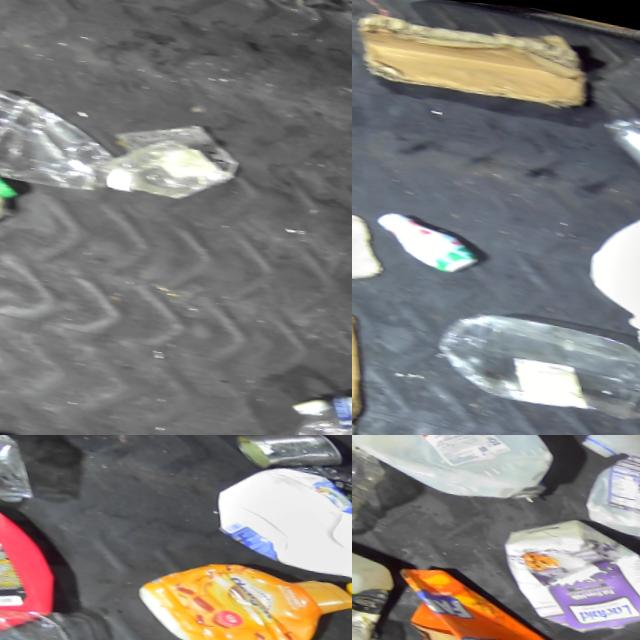can: (228, 435, 349, 476)
milk_jug: (202, 442, 352, 580), (352, 435, 547, 504), (575, 190, 640, 360), (575, 436, 640, 543)
non_white_jug: (129, 536, 351, 640), (519, 520, 640, 635), (0, 484, 56, 638)
plastic_bottle: (425, 295, 640, 427)
